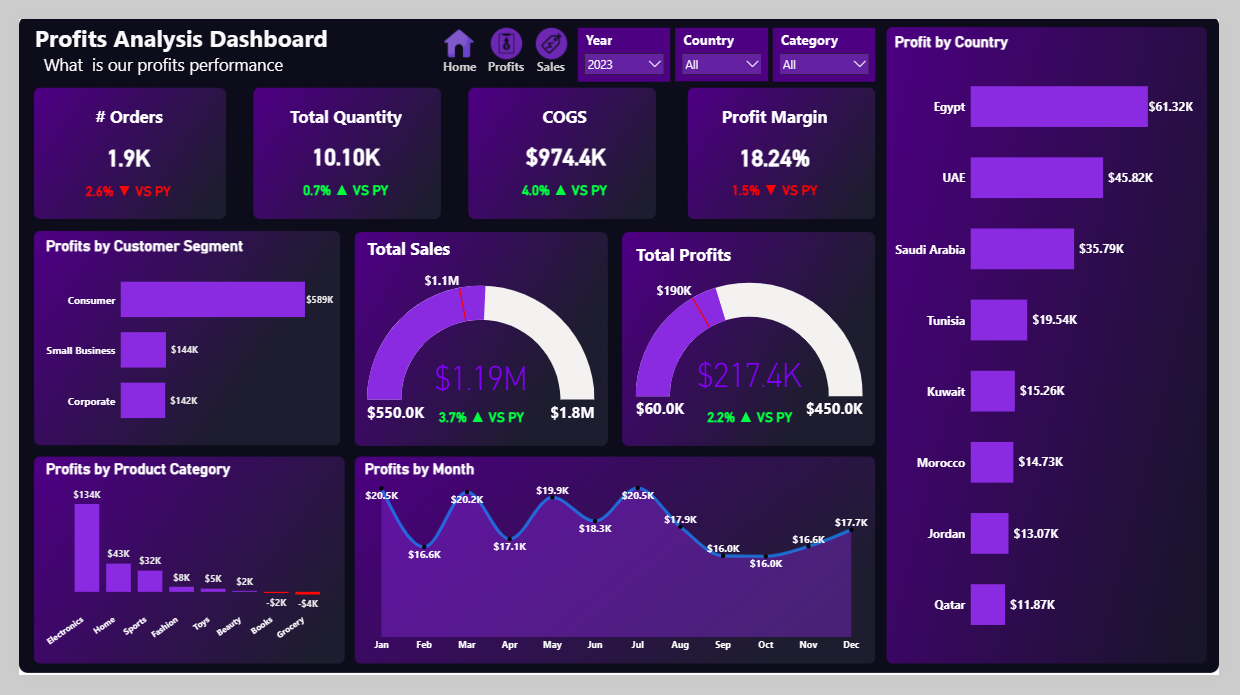

Layout of this report page (visuals, bound fields, positions):
{"tool":"powerbi","page":{"name":"Profits Dashboard","canvas":[1920,1050],"ordinal":2},"visuals":[{"type":"textbox","box":[20,0,525,106.7],"z":0},{"type":"card","fields":{"Values":["AllMeasures.#Orders"]},"box":[20,108,310,222],"z":1000},{"type":"textbox","box":[114,132,124,50],"z":2000},{"type":"card","fields":{"Values":["AllMeasures.TotalQuantity"]},"box":[368,106,310,222],"z":3000},{"type":"textbox","box":[428,132,190,50],"z":4000},{"type":"card","fields":{"Values":["AllMeasures (2).COGS"]},"box":[720,106,310,222],"z":5000},{"type":"textbox","box":[778,132,190,50],"z":6000},{"type":"card","fields":{"Values":["AllMeasures (2).Profit Margin"]},"box":[1054,108,310,222],"z":7000},{"type":"textbox","box":[1114,132,190,50],"z":8000},{"type":"gauge","title":"Total Sales","fields":{"TargetValue":["AllMeasures.SalesTarget"],"MinValue":["AllMeasures.MinGauage"],"MaxValue":["AllMeasures.MaxGauage"],"Y":["AllMeasures.TotalSales"]},"box":[552,348,374,316],"z":9000},{"type":"gauge","title":"Total Profits","fields":{"Y":["AllMeasures.TotalProfits"],"TargetValue":["AllMeasures.ProfitsTarget"],"MinValue":["AllMeasures.MinProfitsGauage"],"MaxValue":["AllMeasures.MaxProfitsGauage"]},"box":[982,348,380,336],"z":10000},{"type":"clusteredColumnChart","title":"Profits by Year","fields":{"Category":["Dim_Date.Year"],"Y":["AllMeasures.TotalProfits"]},"box":[38,348,470,332],"z":11000},{"type":"lineChart","title":"Profits by Month","fields":{"Category":["Dim_Date.Month Name"],"Y":["AllMeasures.TotalProfits"]},"box":[548,706,816,316],"z":12000},{"type":"clusteredColumnChart","title":"Profits by Product Category","fields":{"Category":["Dim_Product.Category"],"Y":["AllMeasures.TotalProfits"]},"box":[38,706,470,316],"z":13000},{"type":"slicer","fields":{"Values":["Dim_Product.Category"]},"box":[1206,14,164,86],"z":15000},{"type":"slicer","fields":{"Values":["Dim_Date.Year"]},"box":[894,14,148,86],"z":16000},{"type":"clusteredBarChart","title":"Profit by Country","fields":{"Category":["Dim_Customer.Country"],"Y":["AllMeasures.TotalProfits"]},"box":[1395.1,21.6,487.2,1001.3],"z":17000},{"type":"image","box":[653.7,14.3,100,50],"z":18000,"group":"g3"},{"type":"group","id":"g1","title":"Group 2","box":[800.4,14.3,102,102],"z":18000},{"type":"group","id":"g2","title":"Group 3","box":[727,14.3,102,102],"z":19000},{"type":"group","id":"g3","title":"Group 4","box":[653.7,14.3,102,102],"z":20000},{"type":"image","box":[729,14.3,100,50],"z":20000,"group":"g2"},{"type":"image","box":[802.4,14.3,100,50],"z":21000,"group":"g1"},{"type":"card","fields":{"Values":["AllMeasures.OrdersNumYOYpct"]},"box":[58,242,234,66],"z":21000},{"type":"textbox","box":[653.7,58.3,102,58],"z":22000,"group":"g3"},{"type":"card","fields":{"Values":["AllMeasures.T.QuantityYOYpct"]},"box":[414,240,218,66],"z":22000},{"type":"textbox","box":[727,58.3,102,58],"z":23000,"group":"g2"},{"type":"card","fields":{"Values":["AllMeasures.COGSYOYpct"]},"box":[764,240,218,66],"z":23000},{"type":"textbox","box":[800.4,58.3,102,58],"z":24000,"group":"g1"},{"type":"card","fields":{"Values":["AllMeasures.ProfitMarginYOYpct"]},"box":[1100,240,218,66],"z":24000},{"type":"card","fields":{"Values":["AllMeasures.T.SalesYOYpct"]},"box":[664,610,180,54],"z":25000},{"type":"card","fields":{"Values":["AllMeasures.TotalProfitspct"]},"box":[1082,610,180,54],"z":26000},{"type":"slicer","fields":{"Values":["Dim_Customer.Country"]},"box":[1049.7,14.3,148.5,85.9],"z":26001}]}

Visuals, with their boxes in screenshot pixels (x1, y1, x2, y2), scaled from the page's 1920x1050 canvas onto the 1240x695 screenshot:
textbox: {"left": 13, "top": 0, "right": 352, "bottom": 71}
card - AllMeasures.#Orders: {"left": 13, "top": 71, "right": 213, "bottom": 218}
textbox: {"left": 74, "top": 87, "right": 154, "bottom": 120}
card - AllMeasures.TotalQuantity: {"left": 238, "top": 70, "right": 438, "bottom": 217}
textbox: {"left": 276, "top": 87, "right": 399, "bottom": 120}
card - AllMeasures (2).COGS: {"left": 465, "top": 70, "right": 665, "bottom": 217}
textbox: {"left": 502, "top": 87, "right": 625, "bottom": 120}
card - AllMeasures (2).Profit Margin: {"left": 681, "top": 71, "right": 881, "bottom": 218}
textbox: {"left": 719, "top": 87, "right": 842, "bottom": 120}
"Total Sales" gauge: {"left": 356, "top": 230, "right": 598, "bottom": 440}
"Total Profits" gauge: {"left": 634, "top": 230, "right": 880, "bottom": 453}
"Profits by Year" clusteredColumnChart: {"left": 25, "top": 230, "right": 328, "bottom": 450}
"Profits by Month" lineChart: {"left": 354, "top": 467, "right": 881, "bottom": 676}
"Profits by Product Category" clusteredColumnChart: {"left": 25, "top": 467, "right": 328, "bottom": 676}
slicer - Dim_Product.Category: {"left": 779, "top": 9, "right": 885, "bottom": 66}
slicer - Dim_Date.Year: {"left": 577, "top": 9, "right": 673, "bottom": 66}
"Profit by Country" clusteredBarChart: {"left": 901, "top": 14, "right": 1216, "bottom": 677}
image: {"left": 422, "top": 9, "right": 487, "bottom": 43}
"Group 2" group: {"left": 517, "top": 9, "right": 583, "bottom": 77}
"Group 3" group: {"left": 470, "top": 9, "right": 535, "bottom": 77}
"Group 4" group: {"left": 422, "top": 9, "right": 488, "bottom": 77}
image: {"left": 471, "top": 9, "right": 535, "bottom": 43}
image: {"left": 518, "top": 9, "right": 583, "bottom": 43}
card - AllMeasures.OrdersNumYOYpct: {"left": 37, "top": 160, "right": 189, "bottom": 204}
textbox: {"left": 422, "top": 39, "right": 488, "bottom": 77}
card - AllMeasures.T.QuantityYOYpct: {"left": 267, "top": 159, "right": 408, "bottom": 203}
textbox: {"left": 470, "top": 39, "right": 535, "bottom": 77}
card - AllMeasures.COGSYOYpct: {"left": 493, "top": 159, "right": 634, "bottom": 203}
textbox: {"left": 517, "top": 39, "right": 583, "bottom": 77}
card - AllMeasures.ProfitMarginYOYpct: {"left": 710, "top": 159, "right": 851, "bottom": 203}
card - AllMeasures.T.SalesYOYpct: {"left": 429, "top": 404, "right": 545, "bottom": 440}
card - AllMeasures.TotalProfitspct: {"left": 699, "top": 404, "right": 815, "bottom": 440}
slicer - Dim_Customer.Country: {"left": 678, "top": 9, "right": 774, "bottom": 66}
